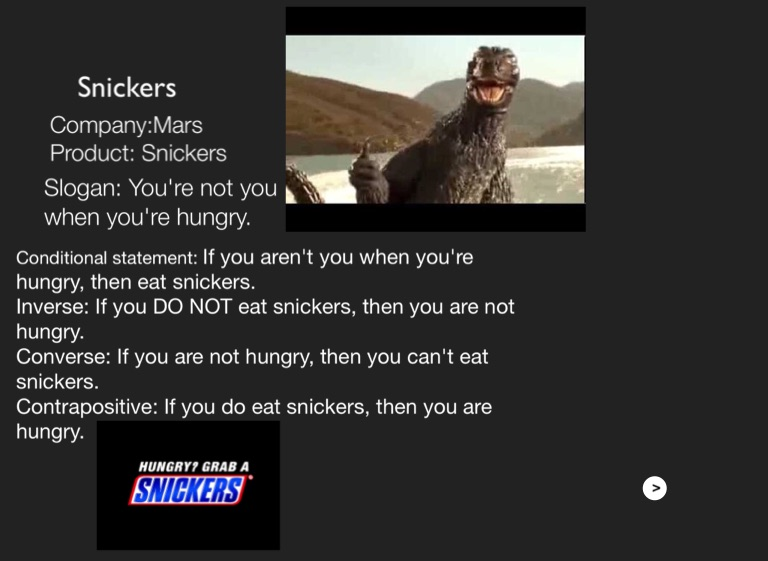snickers: (133, 478, 241, 503)
